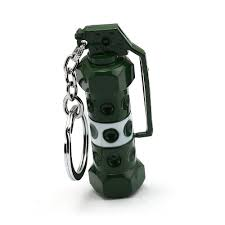e1: (62, 22, 154, 199)
